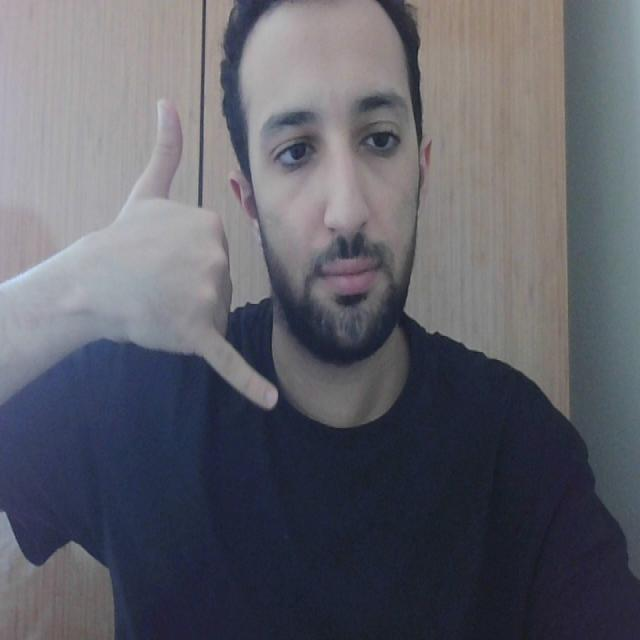Telefon: (130, 85, 287, 413)
